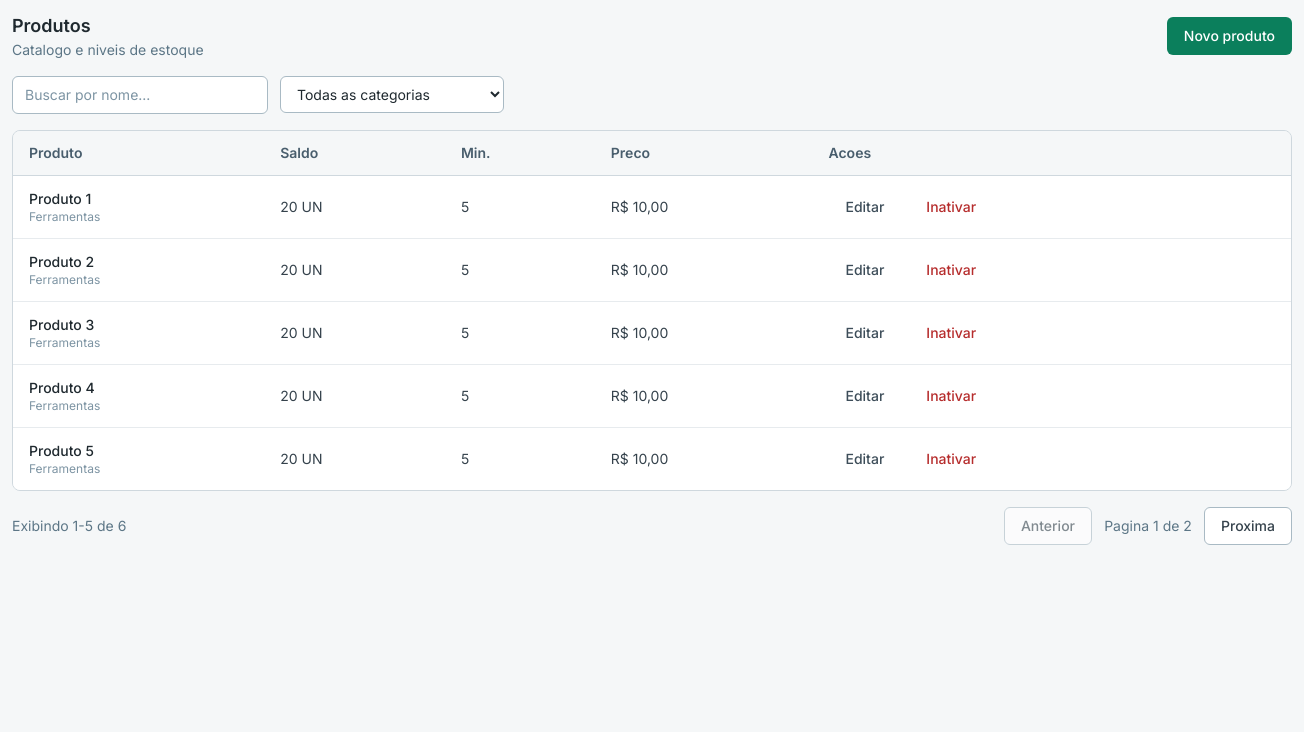
Test: Produtos › pagina o catalogo de produtos
The image size is (1304, 732).
expect the text "Produto 1" is shown: met, box [29,189,100,209]
expect the text "Produto 6" is not shown: met
Step 1. Click the button with aria-label "Proxima pagina" → click(1248, 526), box [1204,507,1292,545]
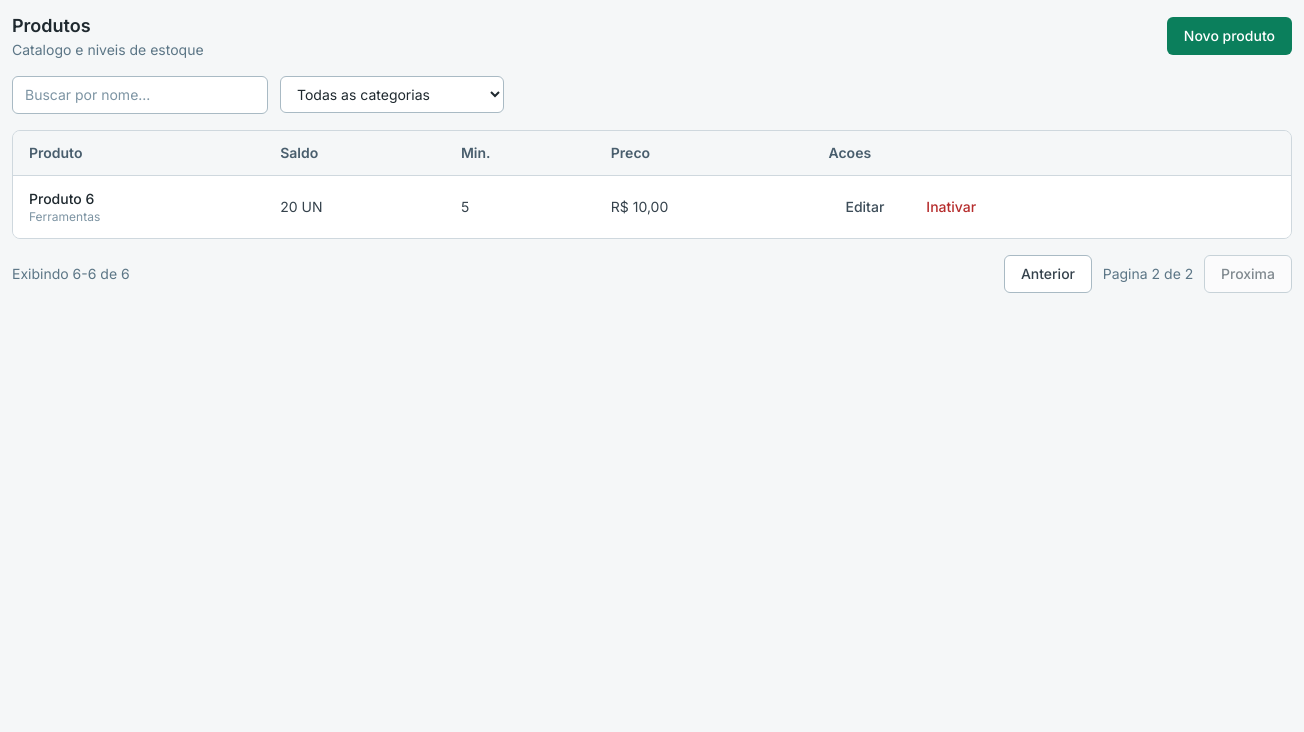
expect the text "Produto 6" is shown: met, box [29,189,100,209]
expect the text "Pagina 2 de 2" is shown: met, box [1100,264,1196,284]
